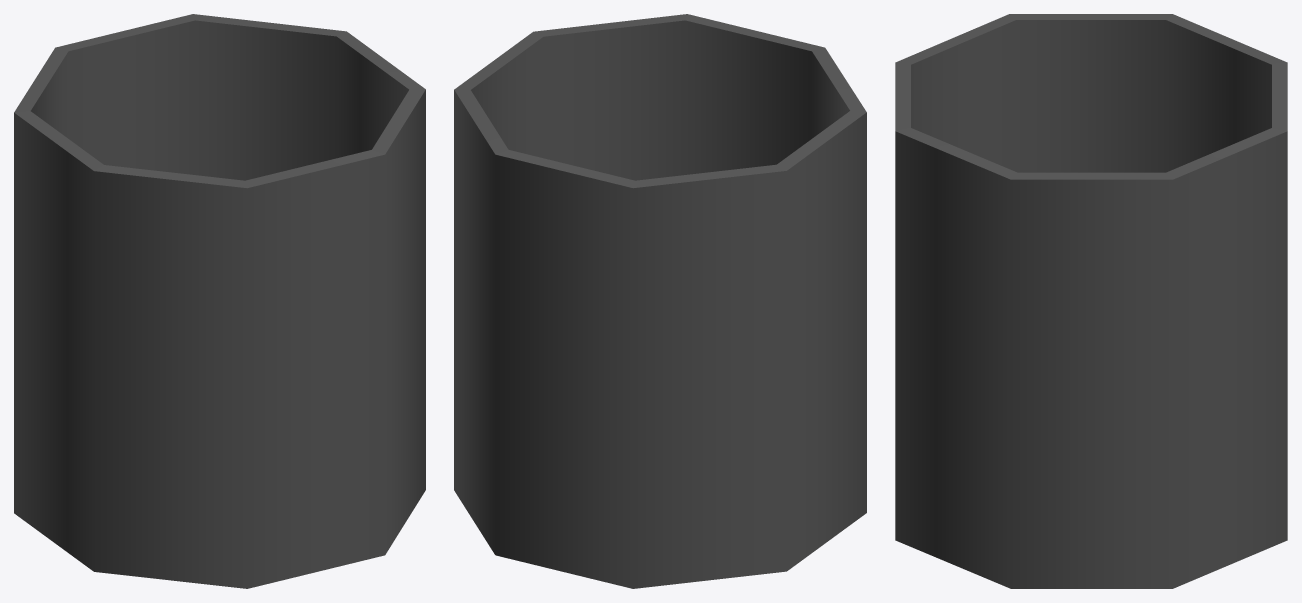
The model's file is Itr_Lamp_Cap2_03.FBX.
The picture shows the model from 3 angles, left to right: view 1: azimuth 30°, elevation 25°; view 2: azimuth 150°, elevation 25°; view 3: azimuth 270°, elevation 25°; orthographic projection. The views are drawn at different scales.
Visible parts, largest first — view 1: Itr_Lamp_Cap2_03; view 2: Itr_Lamp_Cap2_03; view 3: Itr_Lamp_Cap2_03.
Part boxes in pixels (bbox=[...]): Itr_Lamp_Cap2_03: bbox=[14, 14, 425, 588]; Itr_Lamp_Cap2_03: bbox=[454, 14, 866, 588]; Itr_Lamp_Cap2_03: bbox=[895, 14, 1287, 588].
Bounding box in the file's own units: 7.69 × 8.87 × 7.69.
